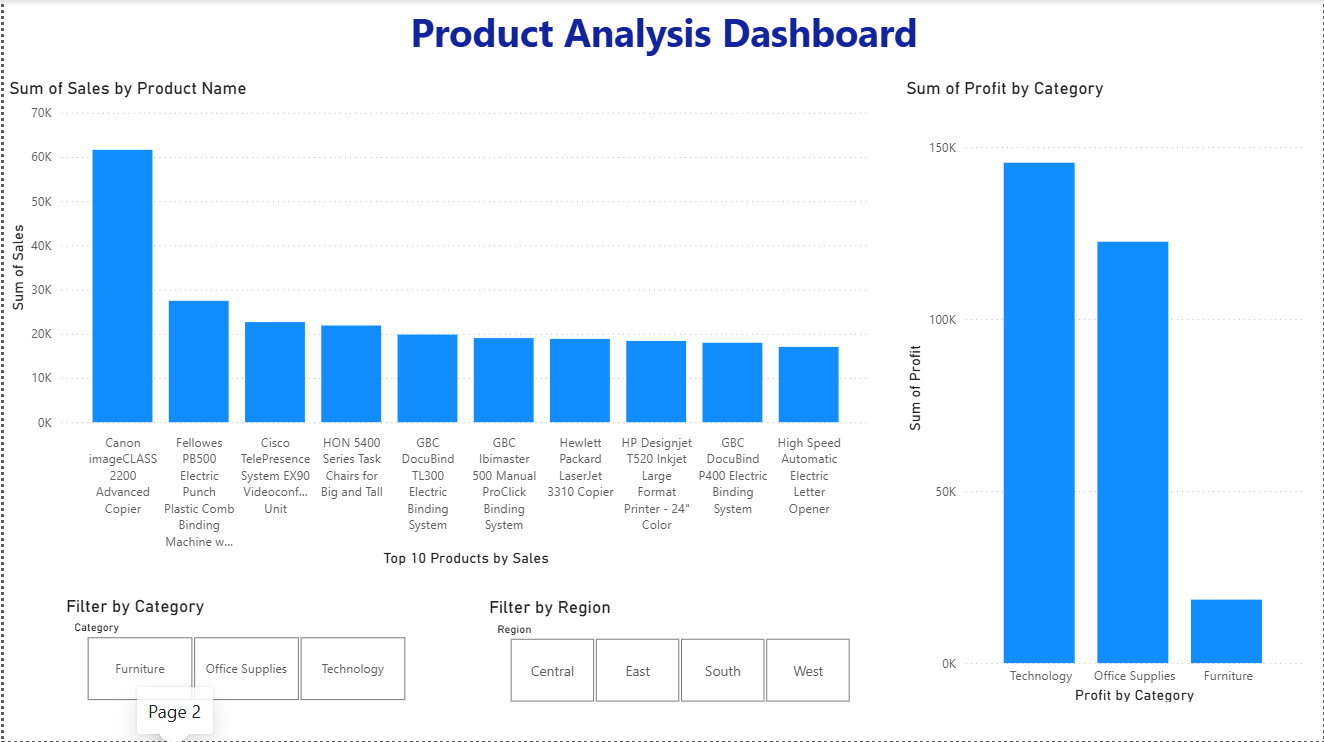

The page's visual inventory and layout, read from the dashboard file:
{"tool":"powerbi","page":{"name":"Page 2","canvas":[1280,720],"ordinal":1},"visuals":[{"type":"clusteredColumnChart","fields":{"Category":["Sample - Superstore.Product Name"],"Y":["Sum(Sample - Superstore.Sales)"]},"box":[0,76.1,845.2,477.7],"z":0},{"type":"clusteredColumnChart","fields":{"Category":["Sample - Superstore.Category"],"Y":["Sum(Sample - Superstore.Profit)"]},"box":[871.1,76.1,395.1,610.4],"z":2000},{"type":"textbox","box":[0,0,1280.8,76.1],"z":2001},{"type":"slicer","title":"Filter by Category","fields":{"Values":["Sample - Superstore.Category"]},"box":[55.1,578.1,357.8,108.5],"z":2002},{"type":"slicer","title":"Filter by Region","fields":{"Values":["Sample - Superstore.Region"]},"box":[466.3,579.7,378.9,108.5],"z":2003}]}

Visuals, with their boxes in screenshot pixels (x1, y1, x2, y2), scaled from the page's 1280x720 canvas onto the 1324x742 screenshot:
clusteredColumnChart - Sample - Superstore.Product Name x Sum(Sample - Superstore.Sales): [x1=0, y1=78, x2=874, y2=571]
clusteredColumnChart - Sample - Superstore.Category x Sum(Sample - Superstore.Profit): [x1=901, y1=78, x2=1310, y2=707]
textbox: [x1=0, y1=0, x2=1323, y2=78]
"Filter by Category" slicer: [x1=57, y1=596, x2=427, y2=708]
"Filter by Region" slicer: [x1=482, y1=597, x2=874, y2=709]
